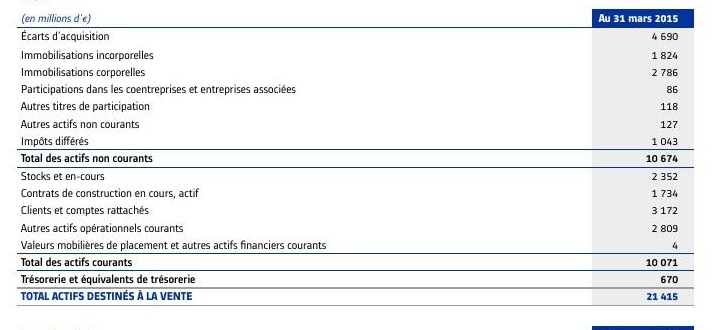table: (0, 0, 712, 330)
